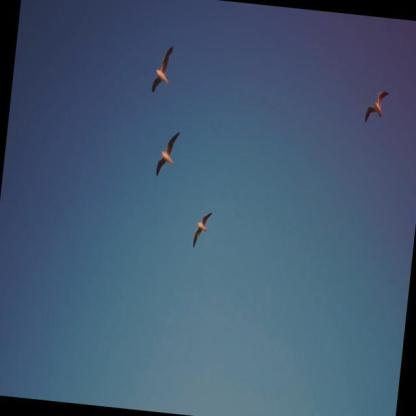bird: (150, 42, 176, 96), (154, 128, 181, 180), (363, 87, 390, 127), (192, 210, 213, 251)
